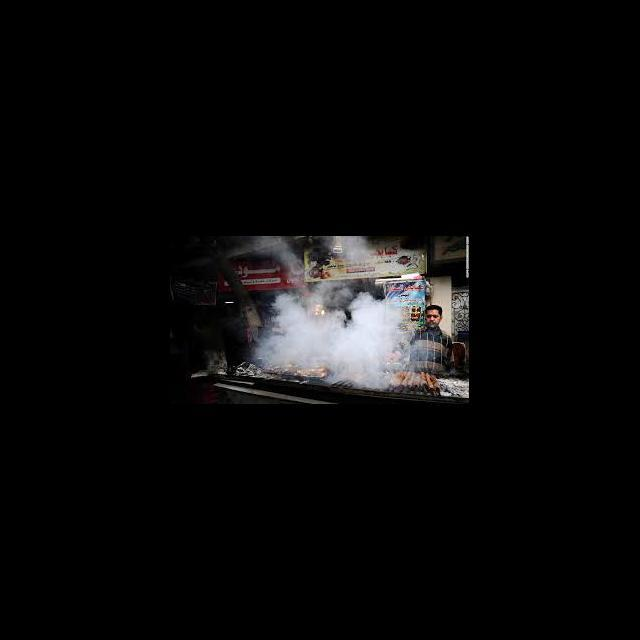Smoke: (260, 291, 410, 392), (255, 239, 311, 283), (337, 236, 376, 268)
